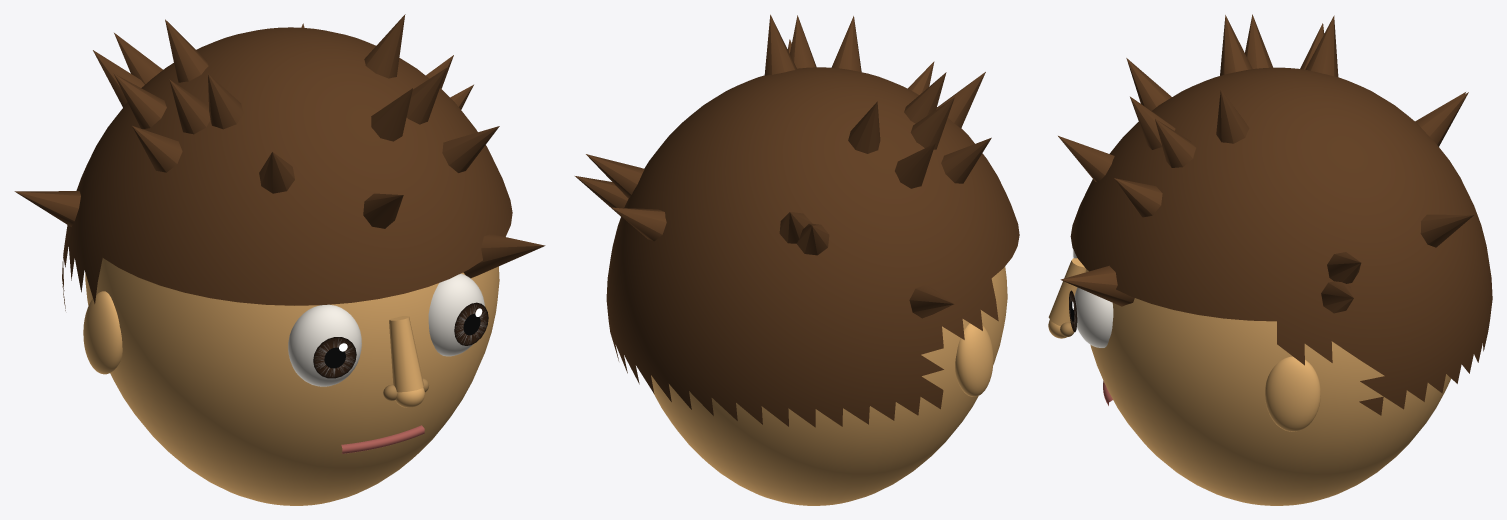
File: homme-04-herisses.glb
The picture shows the model from 3 angles, left to right: view 1: azimuth 30°, elevation 25°; view 2: azimuth 150°, elevation 25°; view 3: azimuth 270°, elevation 25°; orthographic projection. The views are drawn at different scales.
Size of the model in its own units: 0.3479 by 0.3641 by 0.3327.
10 materials, 1 textured.
